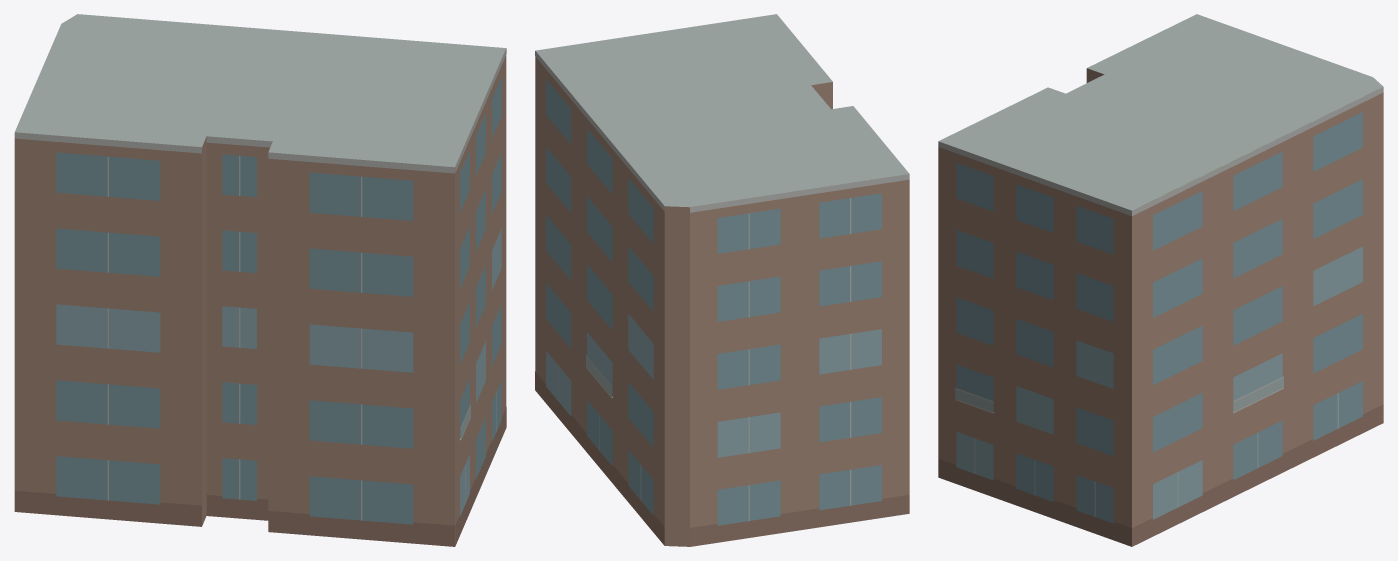
Rendered from survey-upis-32618638.glb.
3 renders of one model, left to right at view 1: azimuth 30°, elevation 25°; view 2: azimuth 150°, elevation 25°; view 3: azimuth 270°, elevation 25°, orthographic. The views are drawn at different scales.
Parts seen in each view (by area): view 1: survey-upis-32618638.tmp; view 2: survey-upis-32618638.tmp; view 3: survey-upis-32618638.tmp.
Part boxes in pixels (x1,y1,x2,y2): survey-upis-32618638.tmp: [14, 14, 506, 546]; survey-upis-32618638.tmp: [535, 14, 909, 546]; survey-upis-32618638.tmp: [938, 14, 1383, 546].
Size of the model in its own units: 18.45 by 14.7 by 17.66.
